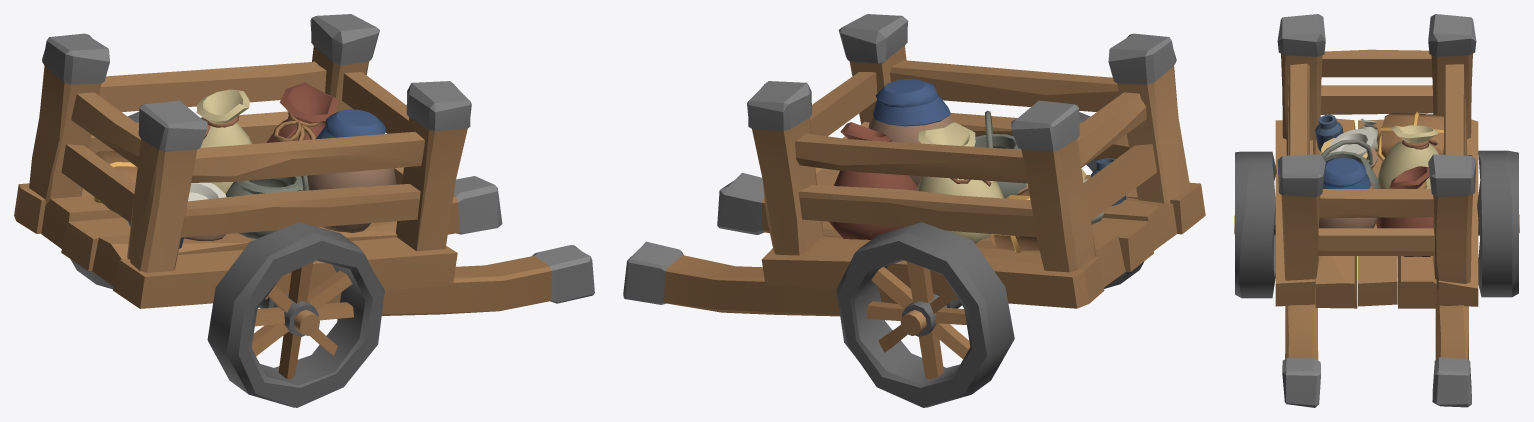
File: Wagon_F.fbx
3 views of the same model, side by side, from view 1: azimuth 30°, elevation 25°; view 2: azimuth 150°, elevation 25°; view 3: azimuth 270°, elevation 25° (orthographic). The views are drawn at different scales.
Parts seen in each view (by area): view 1: Wagon_F; view 2: Wagon_F; view 3: Wagon_F.
Boxes of the visible parts, x1,y1,x2,y2 form: Wagon_F: (14, 14, 594, 407); Wagon_F: (623, 14, 1205, 407); Wagon_F: (1234, 14, 1519, 407).
Bounding box in the file's own units: 252 × 150 × 167.
